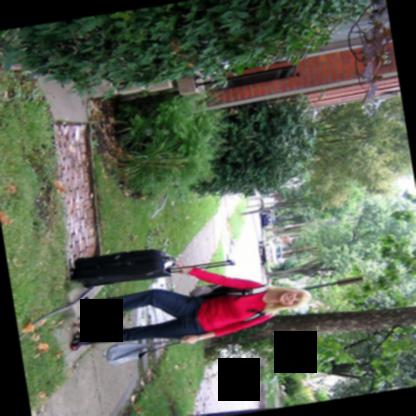backpack: (189, 284, 268, 321)
handbag: (103, 339, 180, 365)
suitcase: (68, 248, 177, 289)
